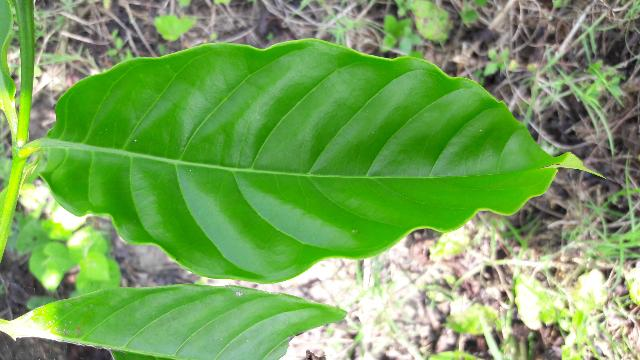healthy: (41, 40, 605, 281)
